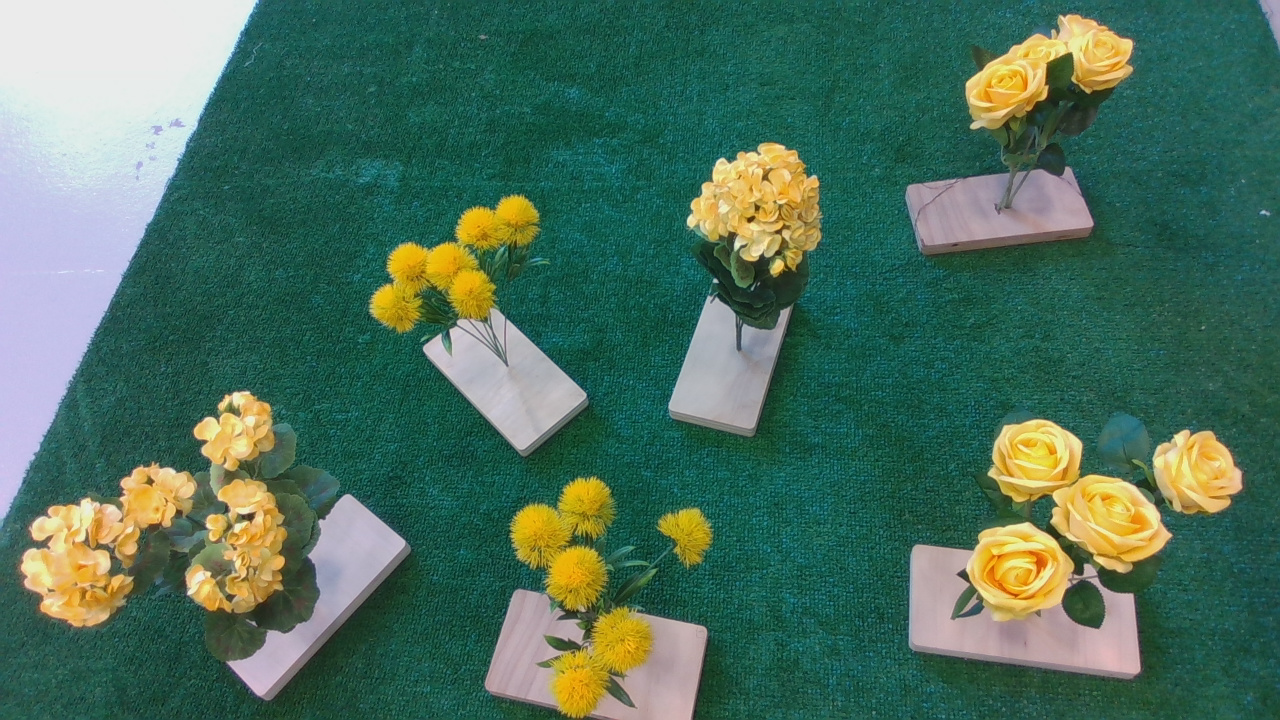dandelion: (508, 479, 727, 720), (367, 191, 554, 349)
geranium: (18, 385, 353, 667)
rose: (950, 418, 1271, 633), (960, 17, 1163, 188), (681, 139, 841, 341)
